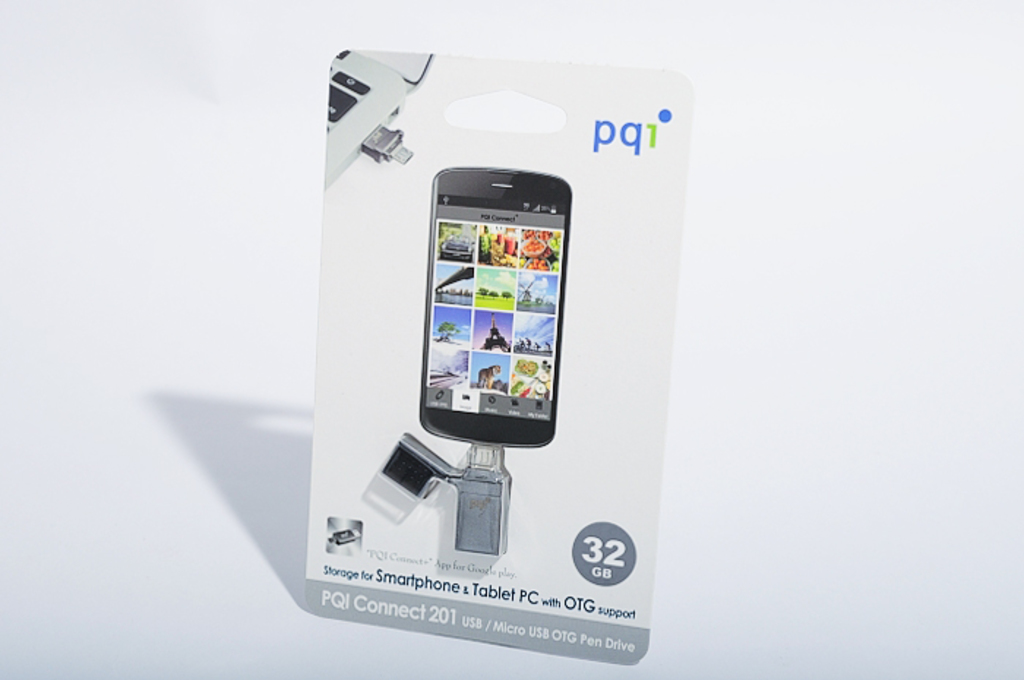Mobile-phone: (417, 165, 570, 450)
